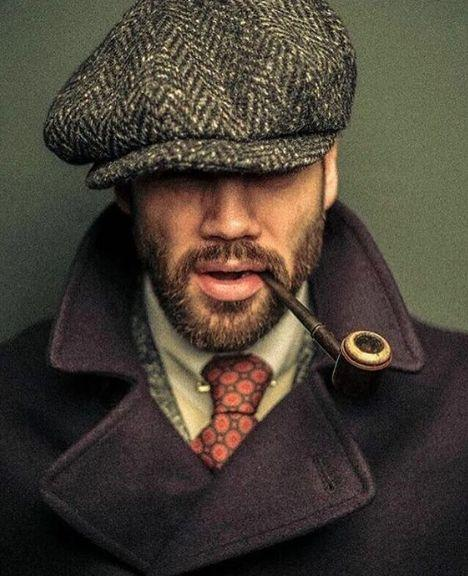trubka: (259, 270, 392, 400)
